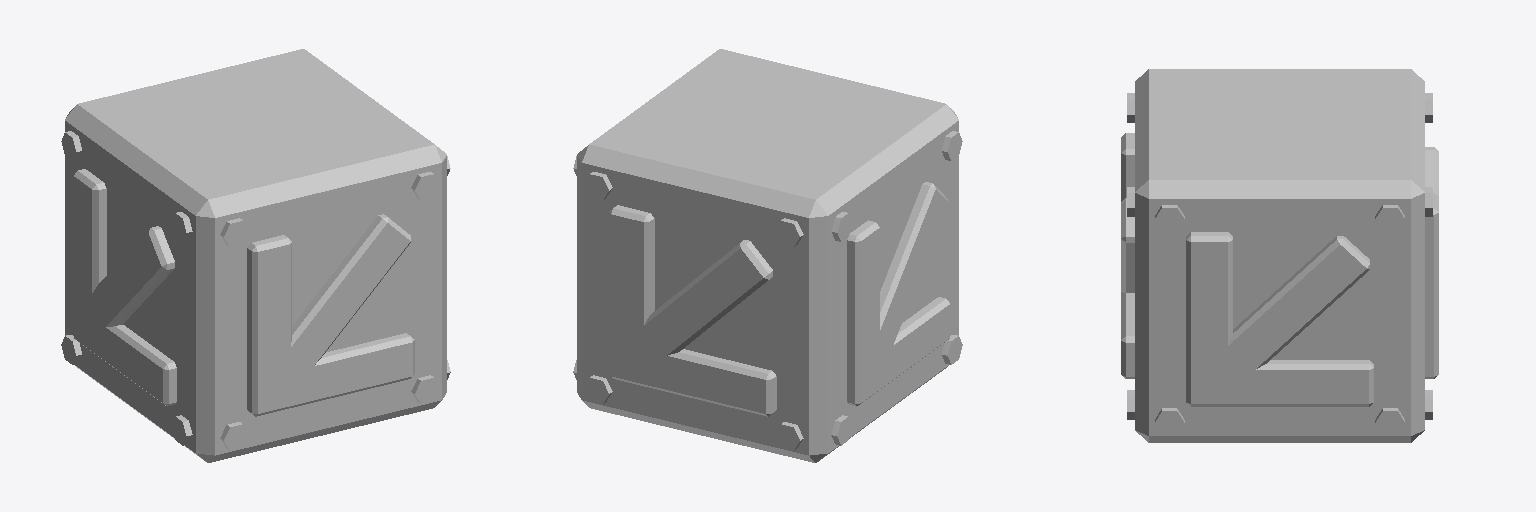
File: SXSW_Arrow_Cube.obj
The picture shows the model from 3 angles: view 1: azimuth 30°, elevation 25°; view 2: azimuth 150°, elevation 25°; view 3: azimuth 270°, elevation 25°; orthographic projection.
Parts seen in each view (by area): view 1: pCylinder23; view 2: pCylinder23; view 3: pCylinder23.
Boxes of the visible parts, <box> form: pCylinder23: <box>61,49,450,462</box>; pCylinder23: <box>573,49,962,462</box>; pCylinder23: <box>1121,69,1438,442</box>.
Size of the model in its own units: 1.09 by 1 by 1.09.